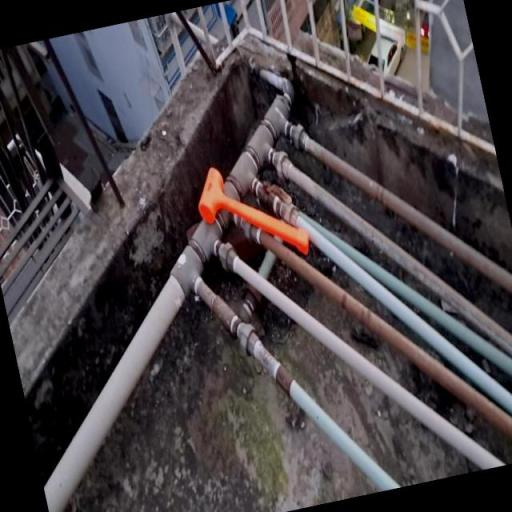mallet: (190, 149, 313, 275)
